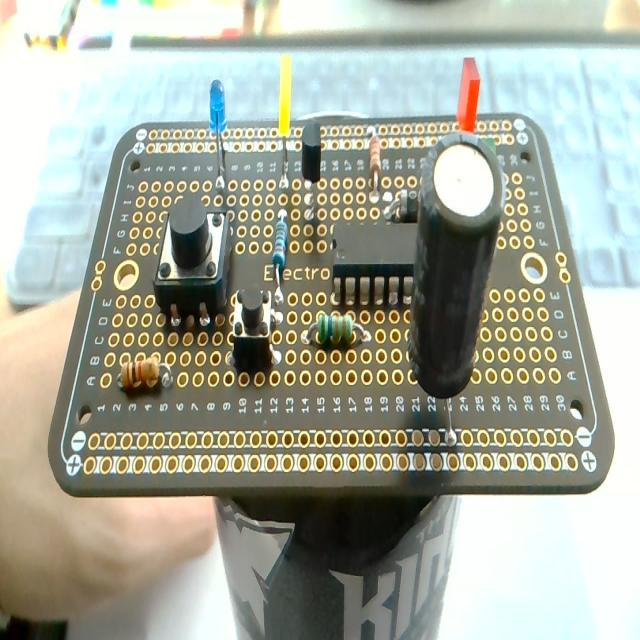Electrolytic capacitor: (408, 133, 502, 398)
IC: (334, 204, 420, 302)
diode: (397, 190, 419, 221)
led: (209, 79, 229, 193), (278, 56, 293, 190), (456, 56, 481, 133)
resistor: (302, 312, 370, 349), (271, 212, 288, 306), (122, 356, 160, 388), (368, 136, 382, 191)
switch: (153, 200, 234, 326), (230, 288, 276, 368)
transistor: (301, 125, 322, 228)
